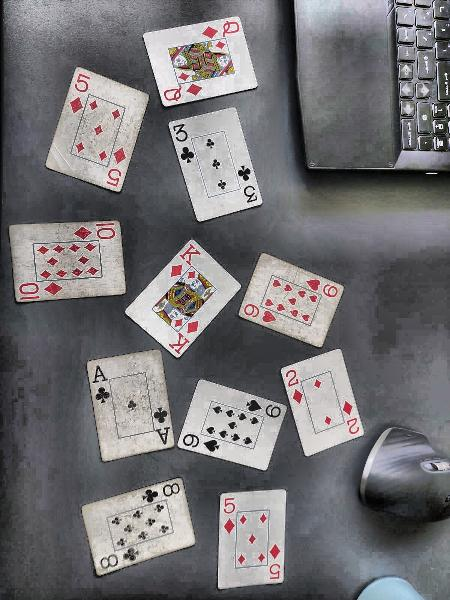10D: (72, 221, 117, 242), (18, 282, 64, 301)
2D: (285, 367, 306, 405), (341, 400, 361, 435)
3T: (234, 162, 261, 204), (172, 123, 196, 166)
5D: (105, 146, 129, 190), (68, 72, 92, 115), (222, 496, 237, 536), (268, 542, 282, 581)
8T: (99, 547, 140, 571), (141, 481, 180, 505)
9C: (304, 276, 340, 299), (243, 303, 278, 324)
9P: (181, 432, 220, 454), (244, 397, 282, 419)
AT: (151, 405, 173, 446), (90, 363, 111, 404)
KD: (169, 240, 203, 278), (166, 319, 200, 356)
QD: (200, 17, 242, 41), (162, 82, 204, 102)
